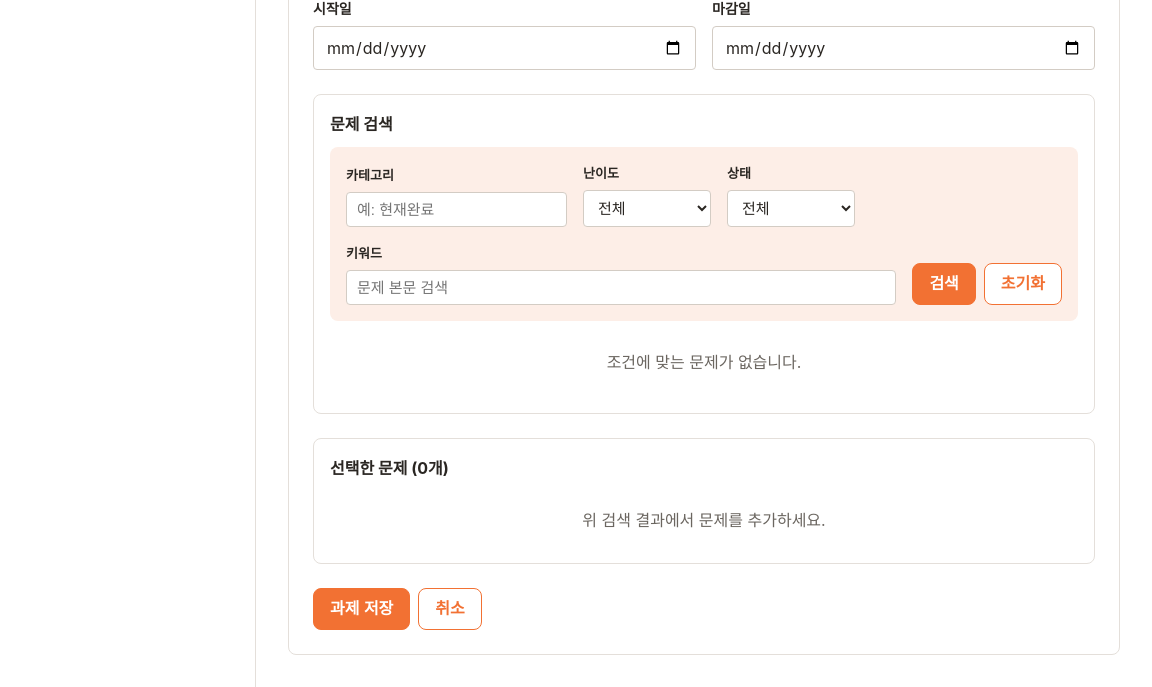
it: AssignmentCreatePage › blocks submission and shows field errors when required fields are missing
This screenshot has width=1152, height=687.
(page scrolled)
Click the button "과제 저장" at (362, 609), box top-left (313, 588), bottom-right (410, 630)
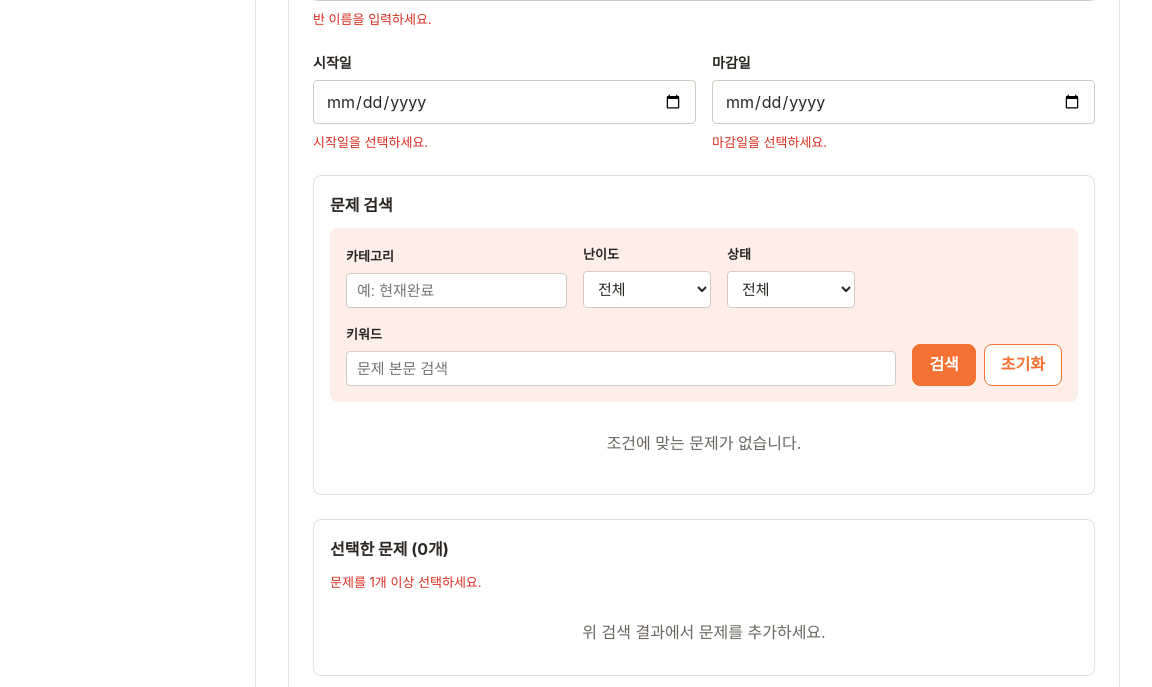
Expected: the text "반 이름을 입력하세요." is shown, top-left (313, 11), bottom-right (432, 27)
Expected: the text "시작일을 선택하세요." is shown, top-left (313, 134), bottom-right (428, 150)
Expected: the text "마감일을 선택하세요." is shown, top-left (712, 134), bottom-right (827, 150)
